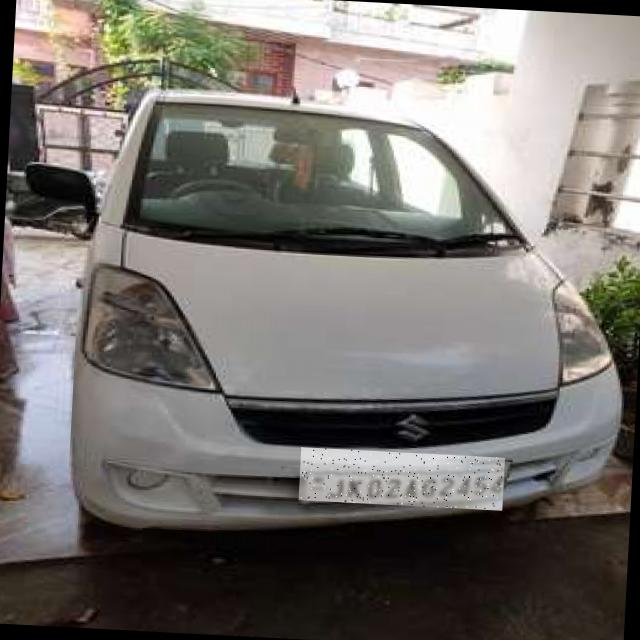Plate: (300, 448, 507, 512)
